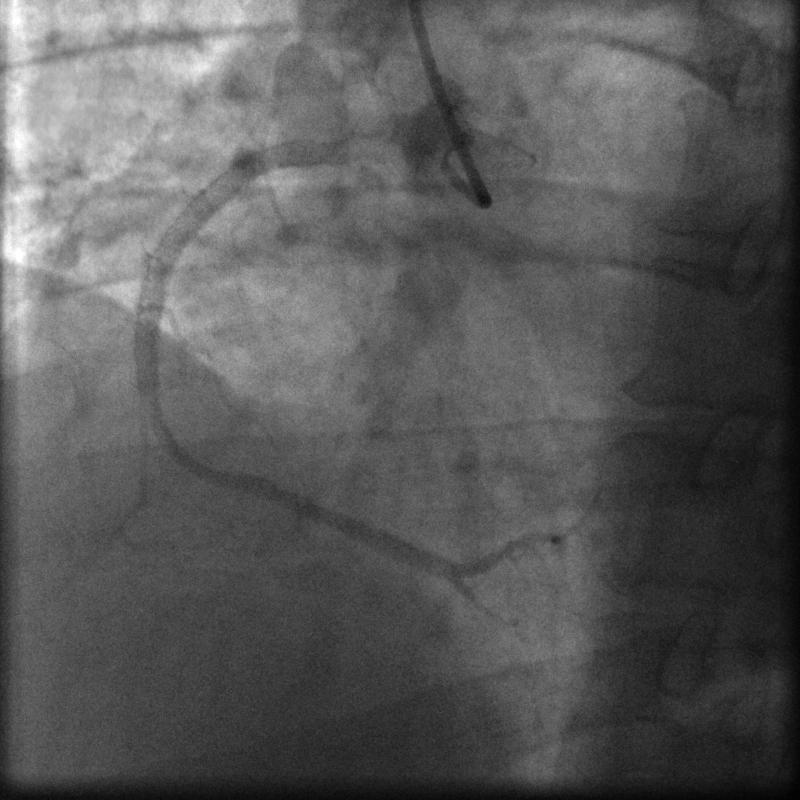Stenosis: (136, 372, 170, 444)
